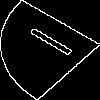I: (25, 25, 88, 65)
